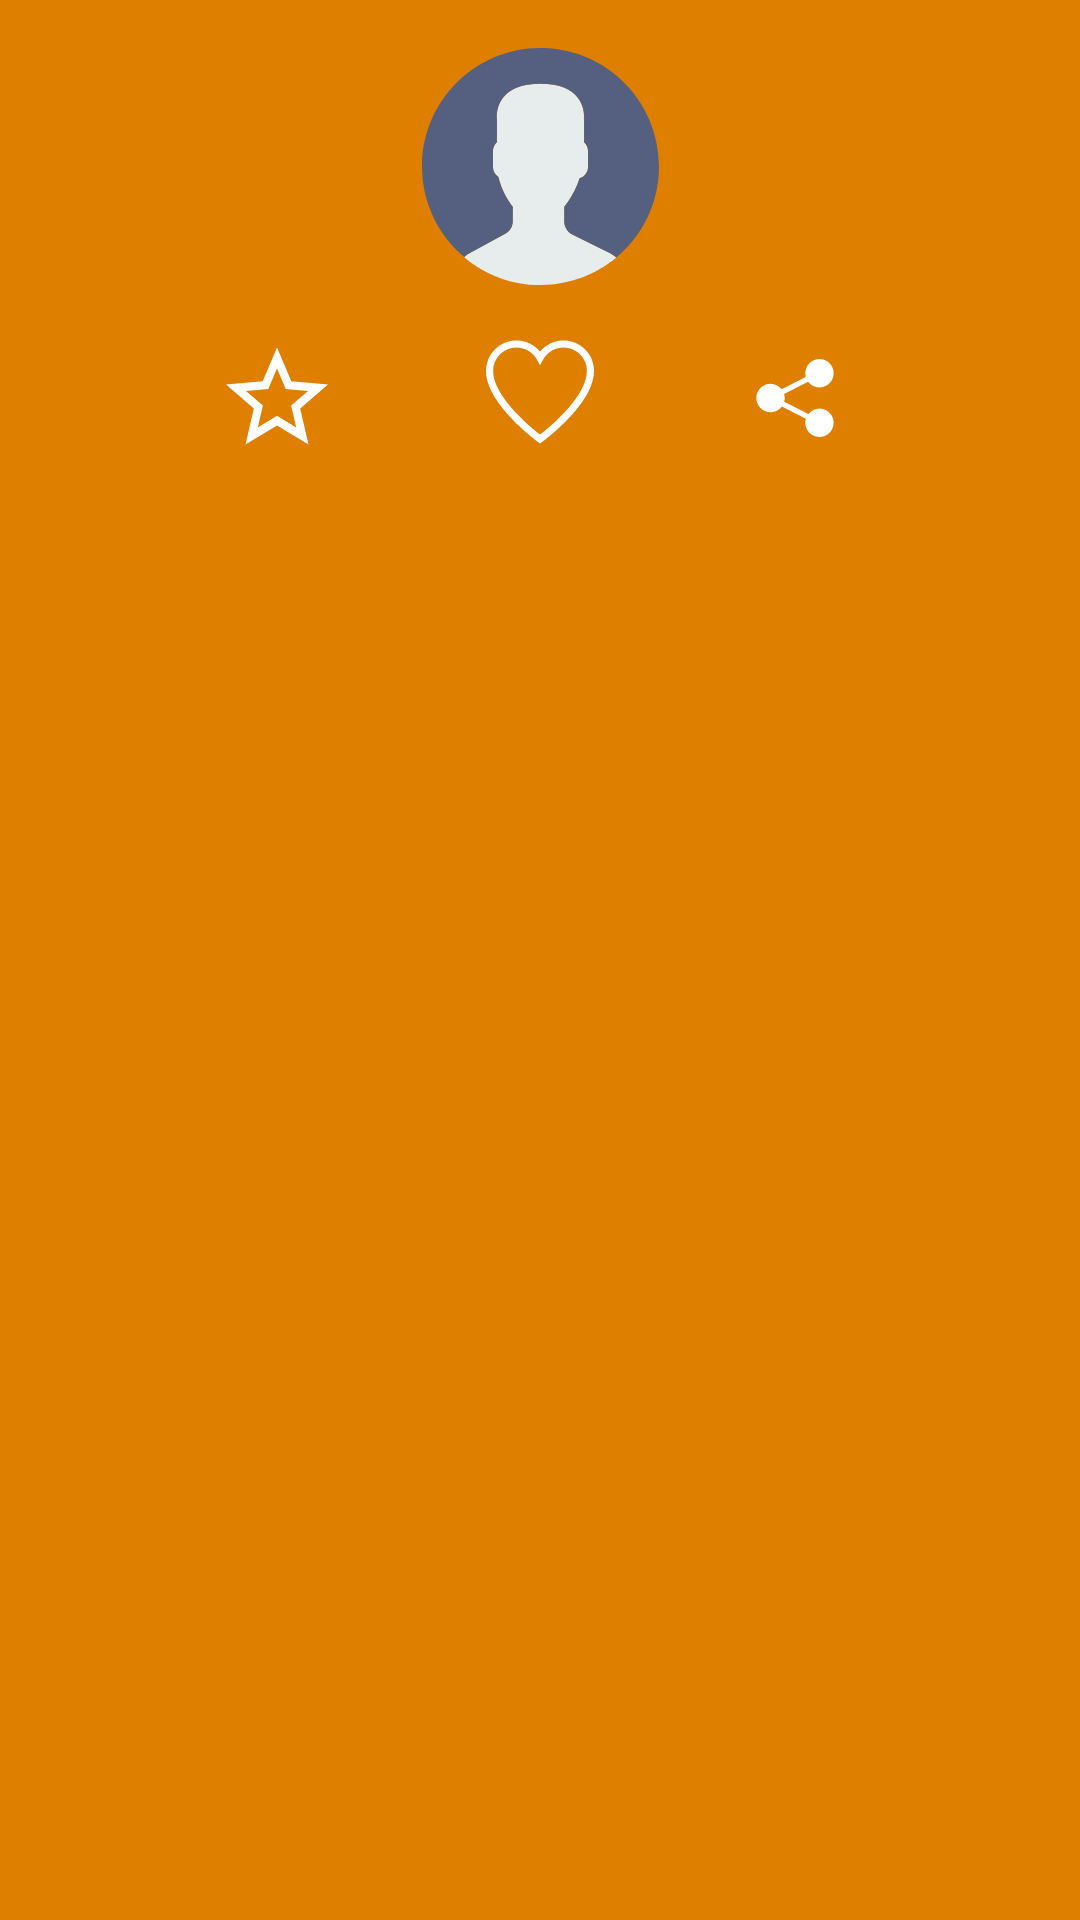

Icons on this 1080×1920 Android screen, each with its box as (x1, y1, x2, y2):
love: (486, 340, 594, 444)
rate: (226, 348, 328, 445)
share: (756, 359, 834, 437)
user: (422, 48, 659, 285)
